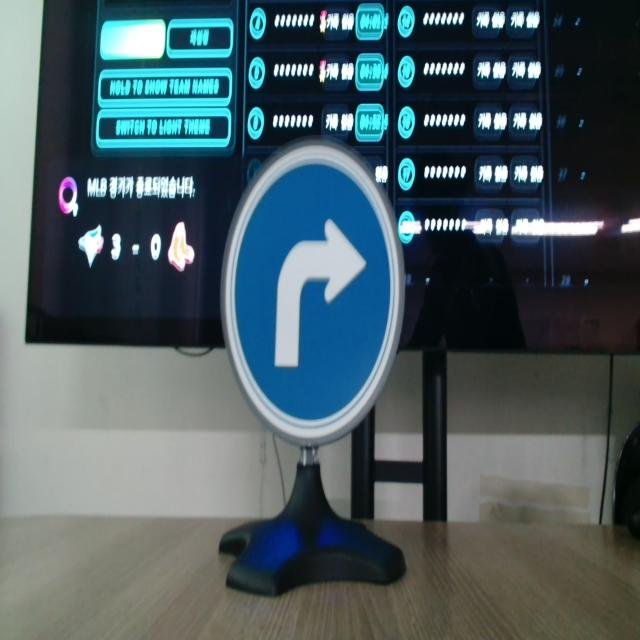right_dierection: (219, 132, 404, 452)
